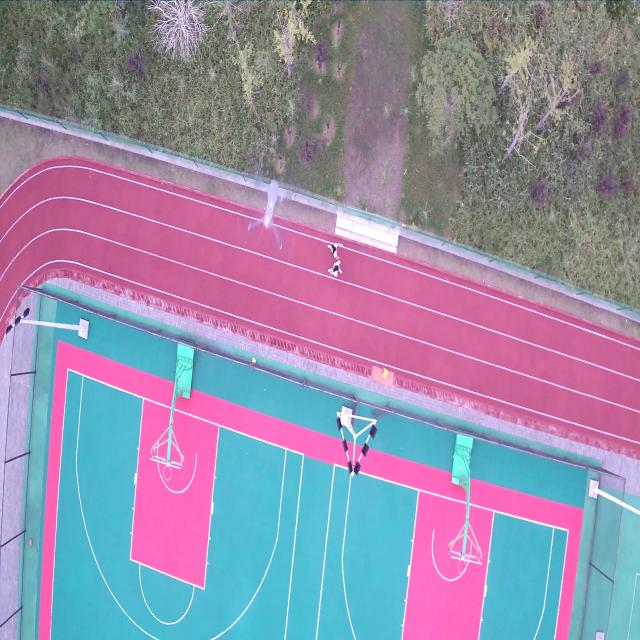UAV: (246, 167, 296, 252)
